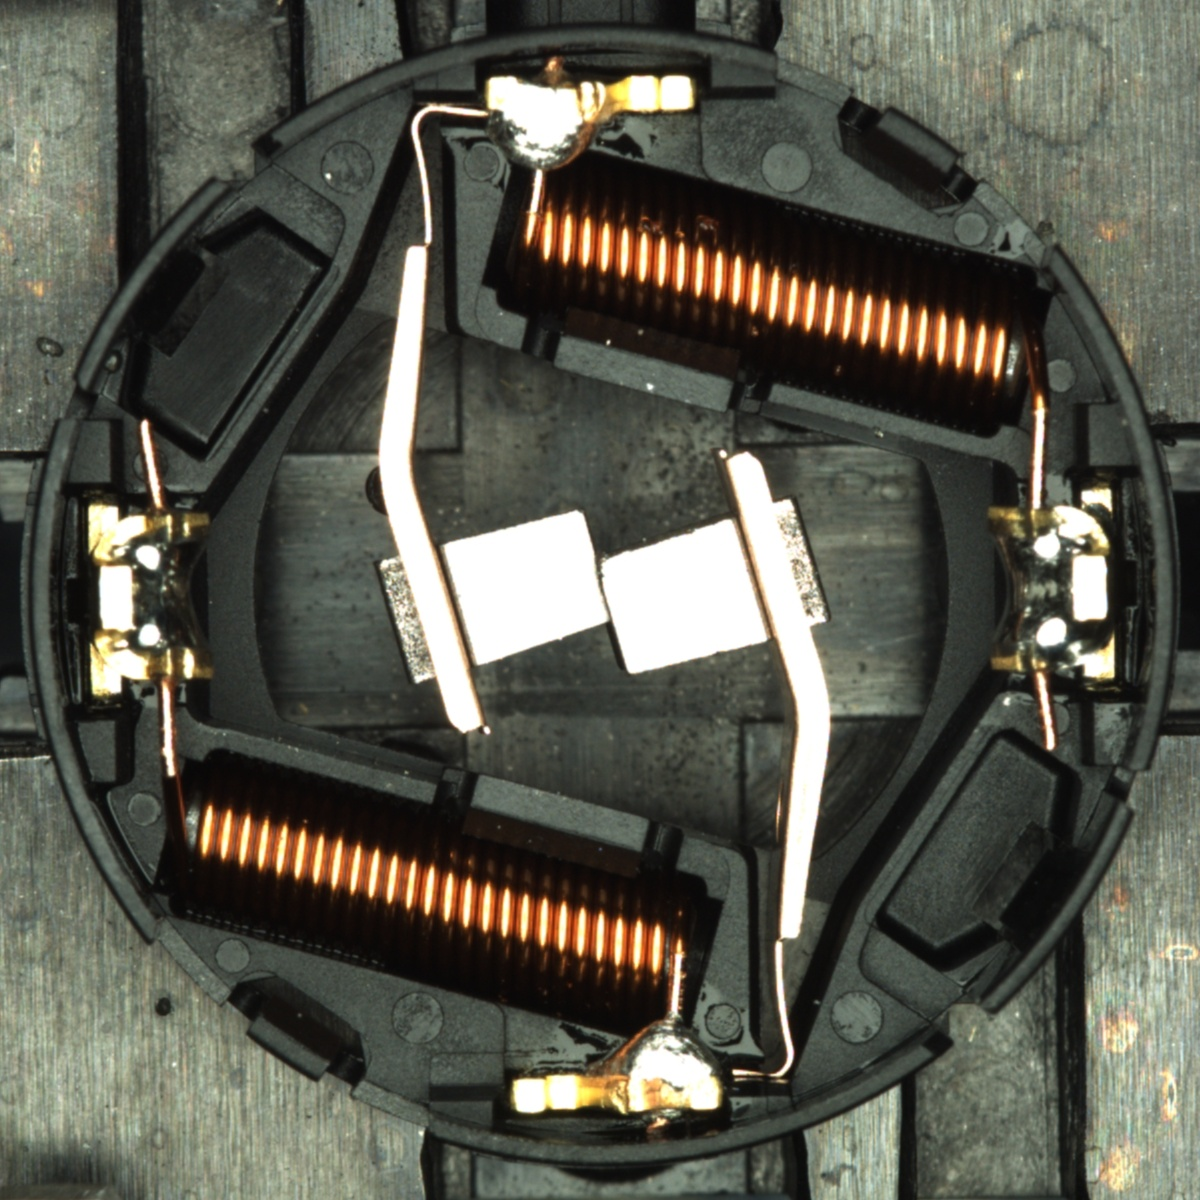1: (256, 31, 486, 255), (714, 929, 944, 1153)
2: (714, 31, 944, 255), (256, 929, 486, 1153)
3: (944, 703, 1173, 929), (27, 255, 256, 479)
4: (714, 703, 944, 929), (256, 255, 486, 479)
5: (486, 815, 714, 1041), (486, 143, 714, 367)
6: (256, 703, 486, 929), (714, 255, 944, 479)
7: (27, 703, 256, 929), (944, 255, 1173, 479)
cacbon: (397, 498, 803, 685)
chau_dien: (981, 486, 1122, 685), (80, 497, 220, 697)
di_vat: (364, 465, 389, 518)
tay_choi: (484, 73, 699, 177), (509, 1016, 724, 1118)
thanh_de: (954, 785, 1141, 1030), (60, 165, 246, 405)
vun_chi: (362, 466, 390, 515)
